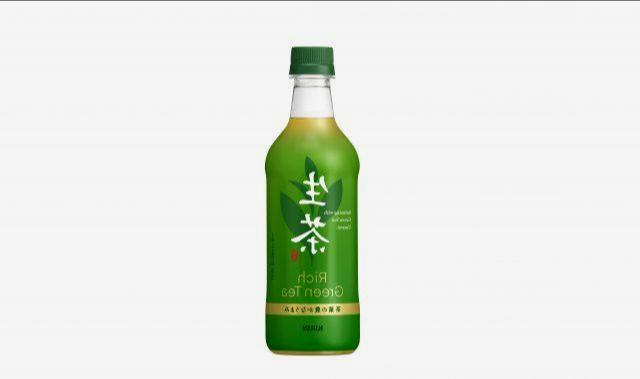bottle: (263, 32, 361, 356)
